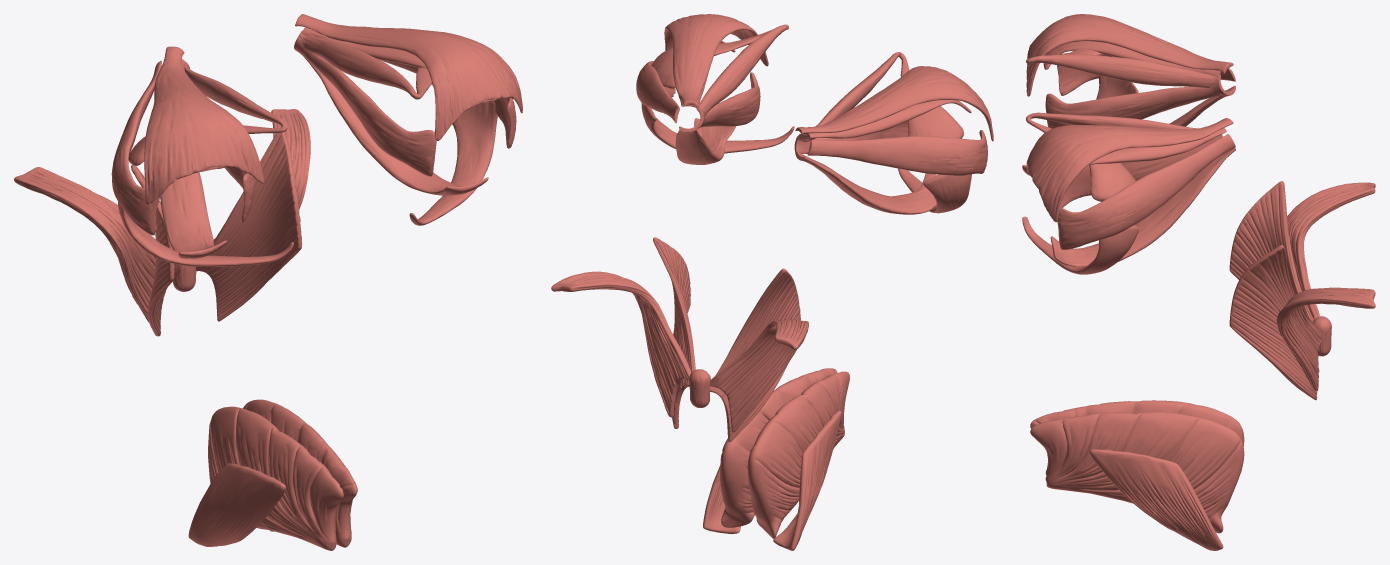
The model's file is muscles.glb.
3 views of the same model, side by side, from view 1: azimuth 30°, elevation 25°; view 2: azimuth 150°, elevation 25°; view 3: azimuth 270°, elevation 25° (orthographic). The views are drawn at different scales.
Parts seen in each view (by area): view 1: Head muscle FJ2750, Head muscle FJ1357, Head muscle FJ2748, Head muscle FJ1306, Head muscle FJ2751, Head muscle FJ2753, Head muscle FJ1308, Head muscle FJ1294, Head muscle FJ1346, Head muscle FJ2738, Head muscle FJ1355, Head muscle FJ1322 (+8 smaller); view 2: Head muscle FJ2750, Head muscle FJ1355, Head muscle FJ2753, Head muscle FJ1357, Head muscle FJ2741, Head muscle FJ1306, Head muscle FJ2738, Head muscle FJ2760, Head muscle FJ1322, Head muscle FJ2751, Head muscle FJ1373, Head muscle FJ2748 (+10 smaller); view 3: Head muscle FJ2738, Head muscle FJ1306, Head muscle FJ2739, Head muscle FJ1304, Head muscle FJ2748, Head muscle FJ1357, Head muscle FJ2760, Head muscle FJ2741, Head muscle FJ1373, Head muscle FJ1359, Head muscle FJ1295, Head muscle FJ2753 (+10 smaller).
Part boxes in pixels (<box>): Head muscle FJ2750: <box>208,406,343,550</box>; Head muscle FJ1357: <box>144,46,263,204</box>; Head muscle FJ2748: <box>196,132,302,321</box>; Head muscle FJ1306: <box>295,14,522,140</box>; Head muscle FJ2751: <box>188,463,286,546</box>; Head muscle FJ2753: <box>14,167,155,322</box>; Head muscle FJ1308: <box>294,36,436,176</box>; Head muscle FJ1294: <box>409,101,497,225</box>; Head muscle FJ1346: <box>160,172,226,258</box>; Head muscle FJ2738: <box>243,399,357,547</box>; Head muscle FJ1355: <box>111,60,161,235</box>; Head muscle FJ1322: <box>298,30,431,99</box>; Head muscle FJ2750: <box>747,371,849,538</box>; Head muscle FJ1355: <box>807,130,987,175</box>; Head muscle FJ2753: <box>710,319,808,432</box>; Head muscle FJ1357: <box>795,66,993,141</box>; Head muscle FJ2741: <box>551,271,691,417</box>; Head muscle FJ1306: <box>664,14,768,107</box>; Head muscle FJ2738: <box>720,368,837,527</box>; Head muscle FJ2760: <box>709,268,800,442</box>; Head muscle FJ1322: <box>652,24,788,115</box>; Head muscle FJ2751: <box>773,410,841,550</box>; Head muscle FJ1373: <box>798,52,963,142</box>; Head muscle FJ2748: <box>653,237,695,428</box>; Head muscle FJ2738: <box>1030,411,1244,533</box>; Head muscle FJ1306: <box>1026,118,1233,222</box>; Head muscle FJ2739: <box>1089,449,1223,550</box>; Head muscle FJ1304: <box>1057,134,1235,249</box>; Head muscle FJ2748: <box>1229,245,1321,400</box>; Head muscle FJ1357: <box>1026,14,1233,96</box>; Head muscle FJ2760: <box>1229,181,1313,320</box>; Head muscle FJ2741: <box>1276,287,1375,390</box>; Head muscle FJ1373: <box>1026,48,1220,87</box>; Head muscle FJ1359: <box>1045,79,1227,128</box>; Head muscle FJ1295: <box>1050,148,1235,266</box>; Head muscle FJ2753: <box>1287,182,1375,358</box>.
Bounding box in the file's own units: 0.0869 × 0.1116 × 0.0781.
